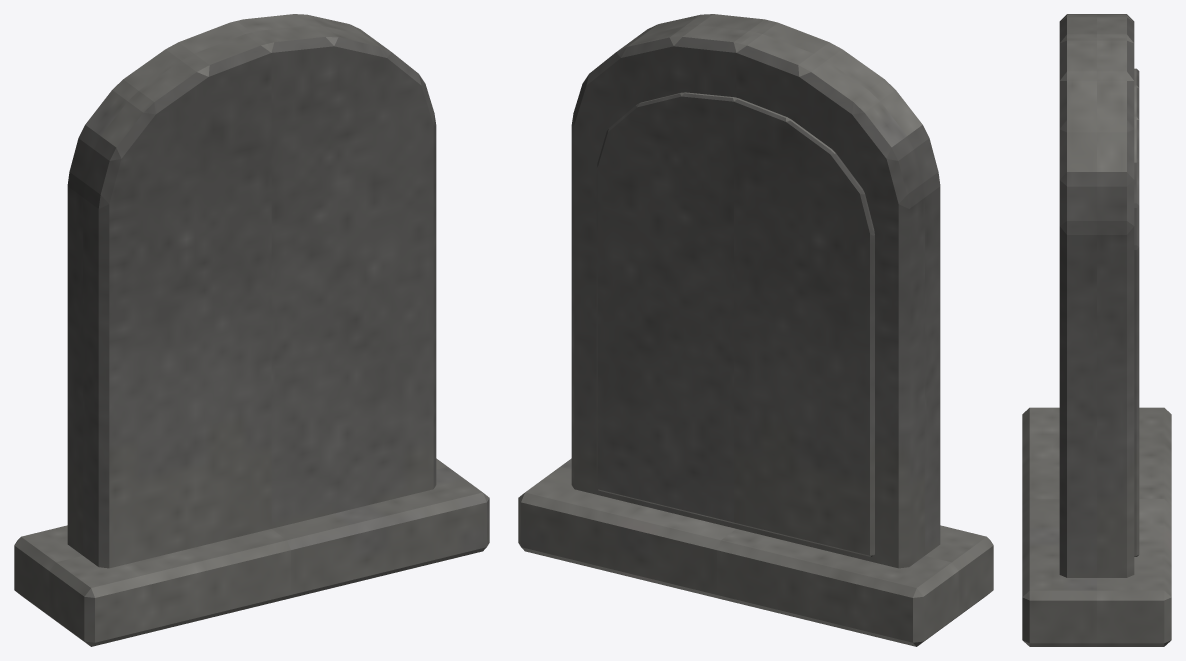
File: pr_grave1.glb
The picture shows the model from 3 angles, left to right: view 1: azimuth 30°, elevation 25°; view 2: azimuth 150°, elevation 25°; view 3: azimuth 270°, elevation 25°; orthographic projection. The views are drawn at different scales.
Parts seen in each view (by area): view 1: pr_grave1; view 2: pr_grave1; view 3: pr_grave1.
Part boxes in pixels (x1,y1,x2,y2): pr_grave1: (14, 14, 489, 646); pr_grave1: (518, 14, 993, 646); pr_grave1: (1022, 14, 1171, 646).
Size of the model in its own units: 0.72 by 0.9184 by 0.24.
1 material, 1 textured.
